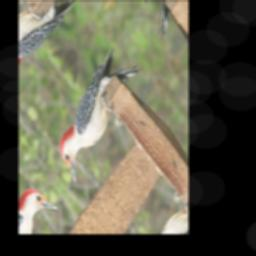Woodpecker: (45, 38, 151, 186)
